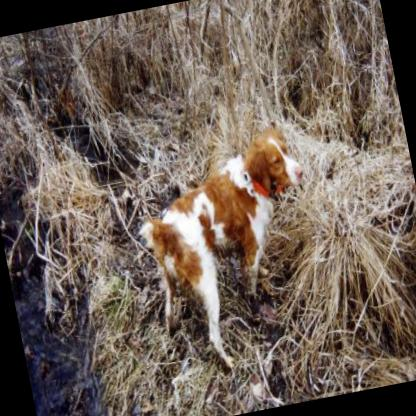Brittany_spaniel: (121, 121, 341, 383)
